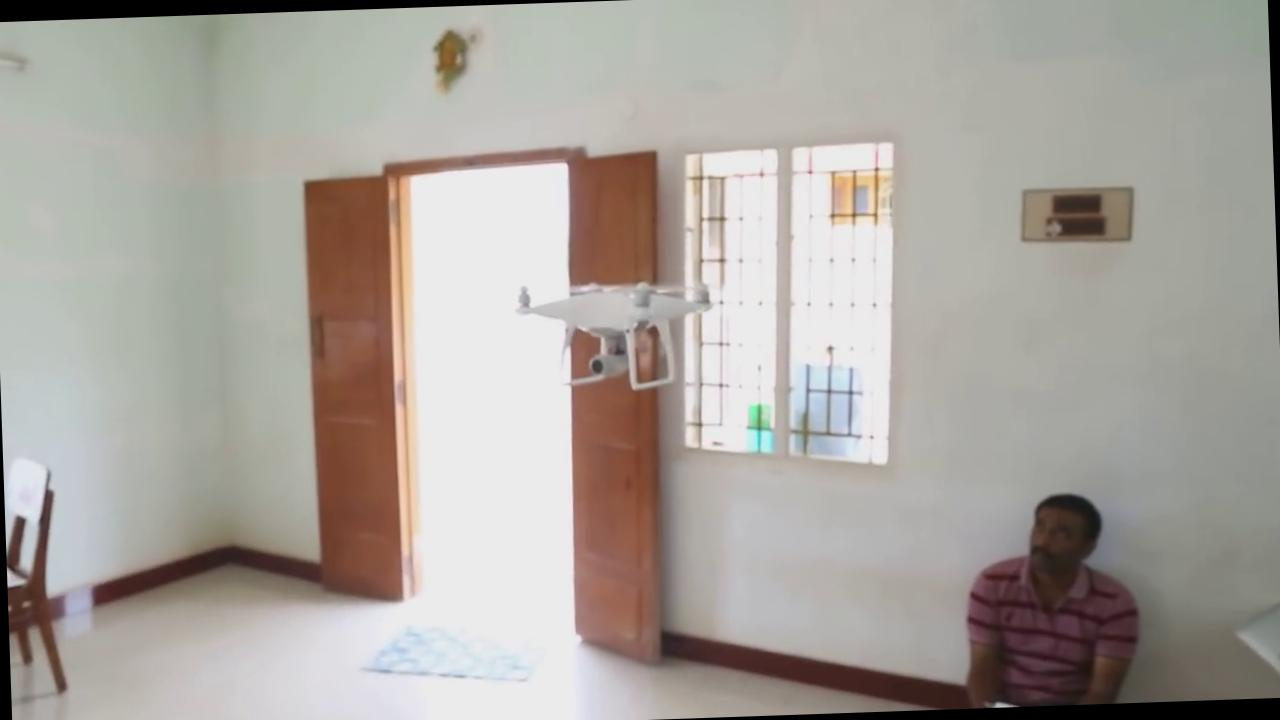drone: (504, 258, 728, 400)
